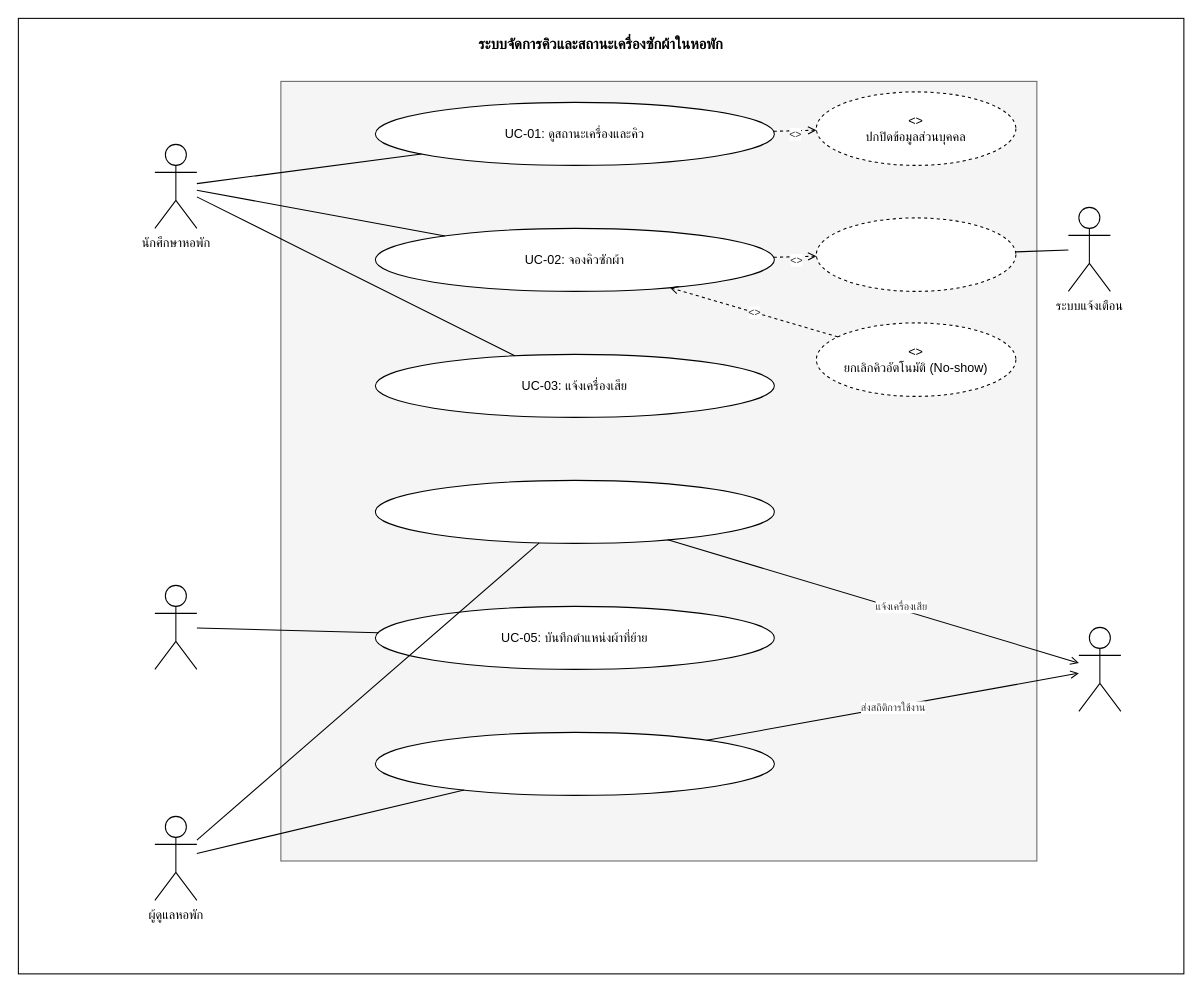
Image size: 1202x992. Some labels were removed from this diagram. The shapes that lost their labels are listed below. From the top down, each one's centre as x and y in pixels, then its label:
the point at 915,254: <> ส่งการแจ้งเตือน
the point at 574,511: UC-04: จัดการสถานะเครื่อง (ปิดปรับปรุง)
the point at 175,626: แม่บ้าน / เจ้าหน้าที่พื้นที่
the point at 1099,668: ผู้ให้บริการเครื่องซักผ้า
the point at 574,763: UC-06: ดูแดชบอร์ดและรายงานการใช้งาน
